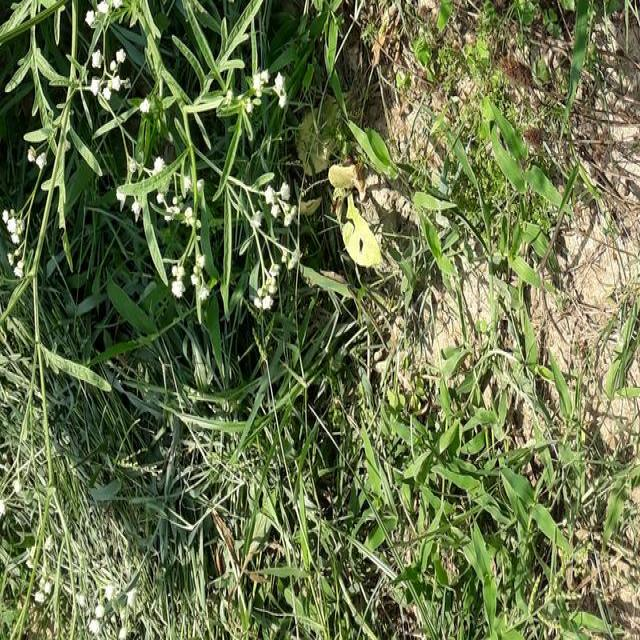weed: (0, 0, 343, 640), (366, 311, 553, 640), (375, 77, 539, 264), (568, 450, 637, 550)
